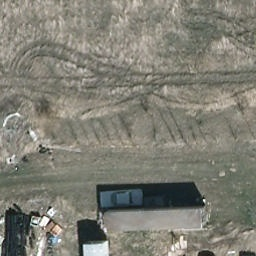car: (99, 189, 143, 209)
